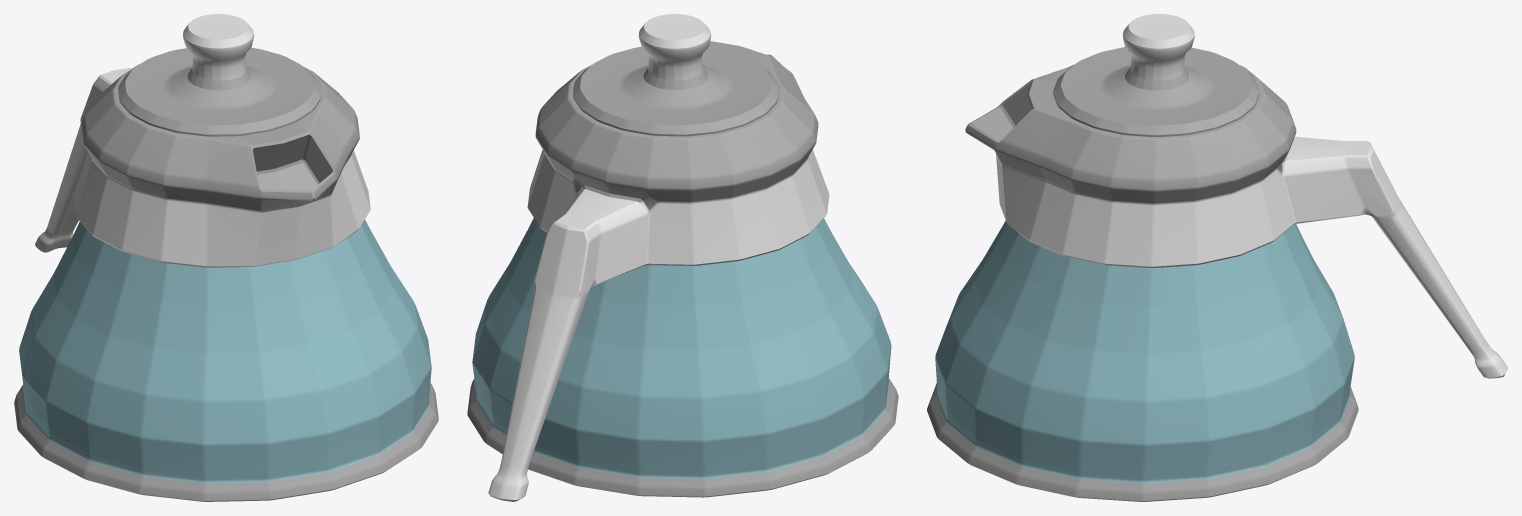
Rendered from coffee pot.fbx.
3 renders of one model, left to right at view 1: azimuth 30°, elevation 25°; view 2: azimuth 150°, elevation 25°; view 3: azimuth 270°, elevation 25°, orthographic.
Visible parts, largest first — view 1: pCylinder1, pCylinder2; view 2: pCylinder1, pCylinder2; view 3: pCylinder1, pCylinder2.
Boxes of the visible parts, bbox=[...] form: pCylinder1: bbox=[14, 64, 438, 501]; pCylinder2: bbox=[118, 14, 321, 136]; pCylinder1: bbox=[467, 41, 898, 501]; pCylinder2: bbox=[573, 14, 779, 136]; pCylinder1: bbox=[927, 64, 1507, 501]; pCylinder2: bbox=[1053, 14, 1259, 136].
Size of the model in its own units: 22.17 by 21.82 by 29.85.
